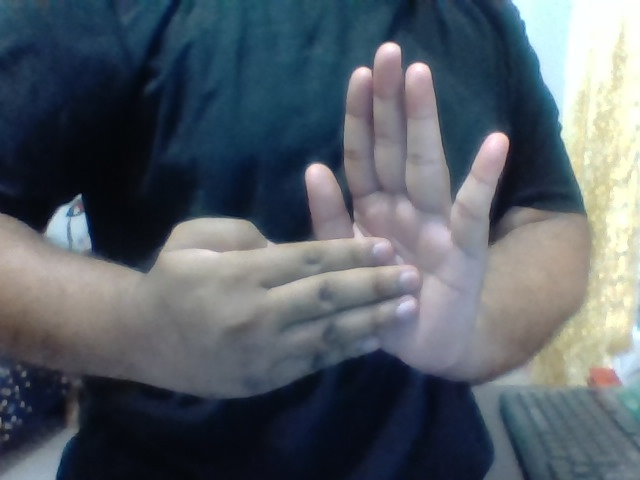H: (155, 38, 520, 410)
